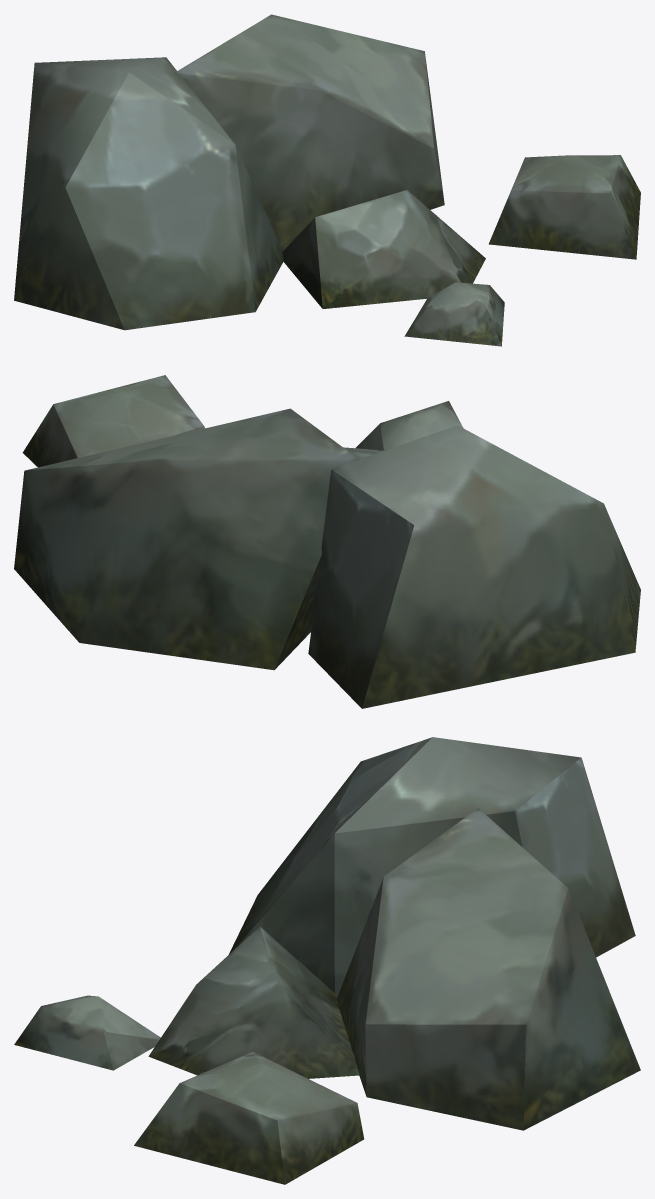
Rendered from cz_yanshi_01.FBX.
3 renders of one model, top to bottom at view 1: azimuth 30°, elevation 25°; view 2: azimuth 150°, elevation 25°; view 3: azimuth 270°, elevation 25°, orthographic. The views are drawn at different scales.
Visible parts, largest first — view 1: cz_yanshi_01; view 2: cz_yanshi_01; view 3: cz_yanshi_01.
Boxes of the visible parts, x1,y1,x2,y2 form: cz_yanshi_01: [14, 14, 640, 346]; cz_yanshi_01: [14, 375, 640, 708]; cz_yanshi_01: [14, 737, 640, 1184].
Bounding box in the file's own units: 285 × 85.83 × 237.
